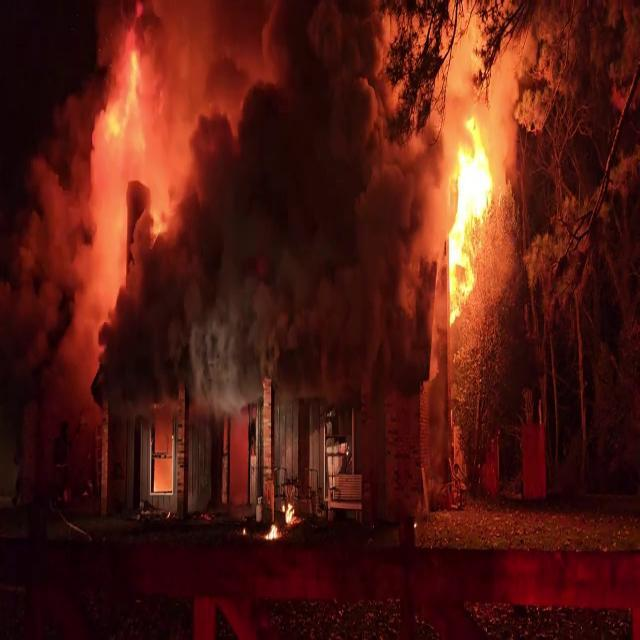Fire: (440, 115, 498, 316)
Smoke: (1, 0, 457, 445)
